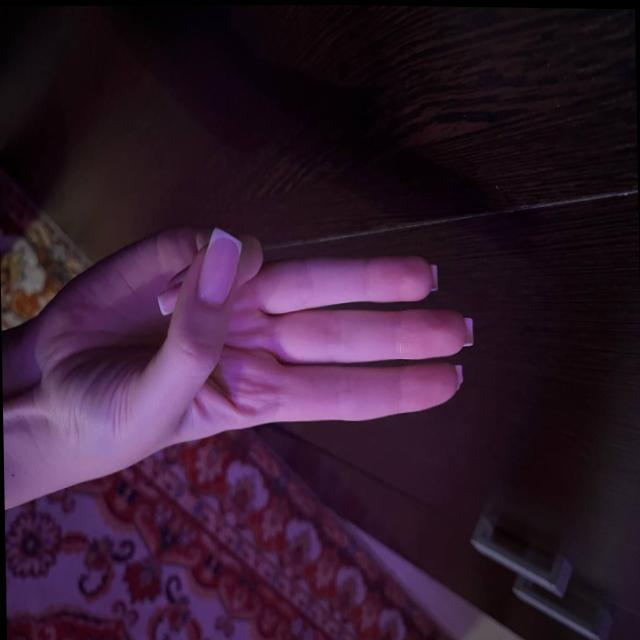sh: (63, 196, 484, 492)
